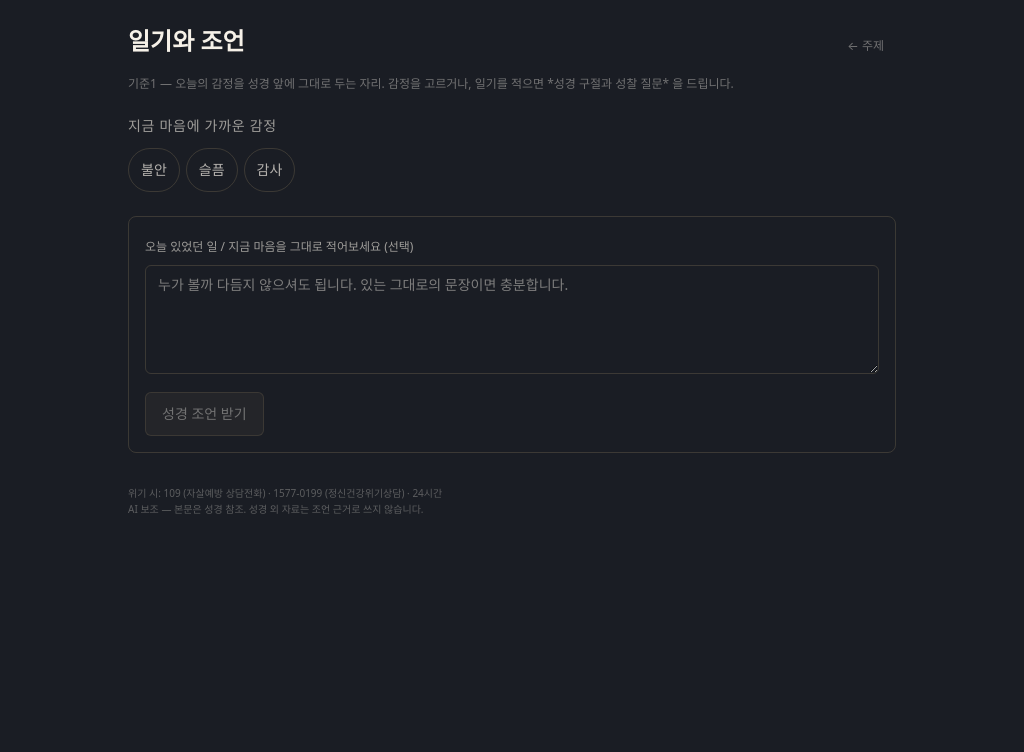
it: /topics/journal — 감정 선택 › 감정 칩을 누르면 그 감정의 조언을 받아 보여준다
Click the button "슬픔" at (212, 170), box x1=186 y1=148 x2=238 y2=192
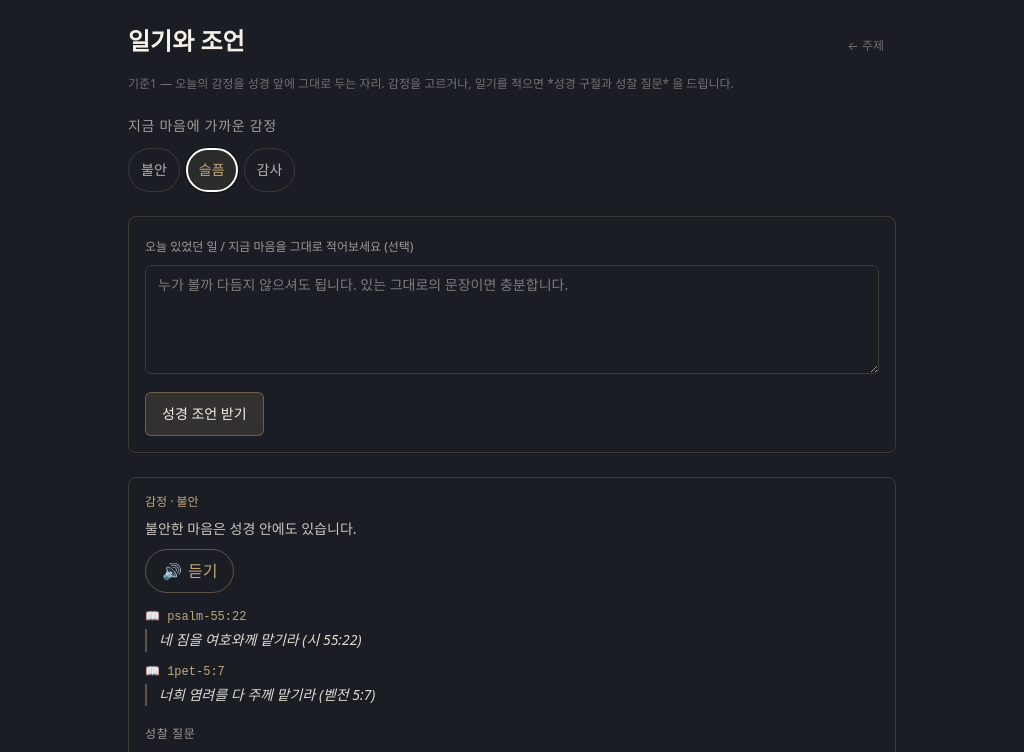
Result: the text "감정 · 불안" is shown at x1=145 y1=493 x2=199 y2=510
Result: the text "불안한 마음은 성경 안에도 있습니다." is shown at x1=145 y1=519 x2=356 y2=538
